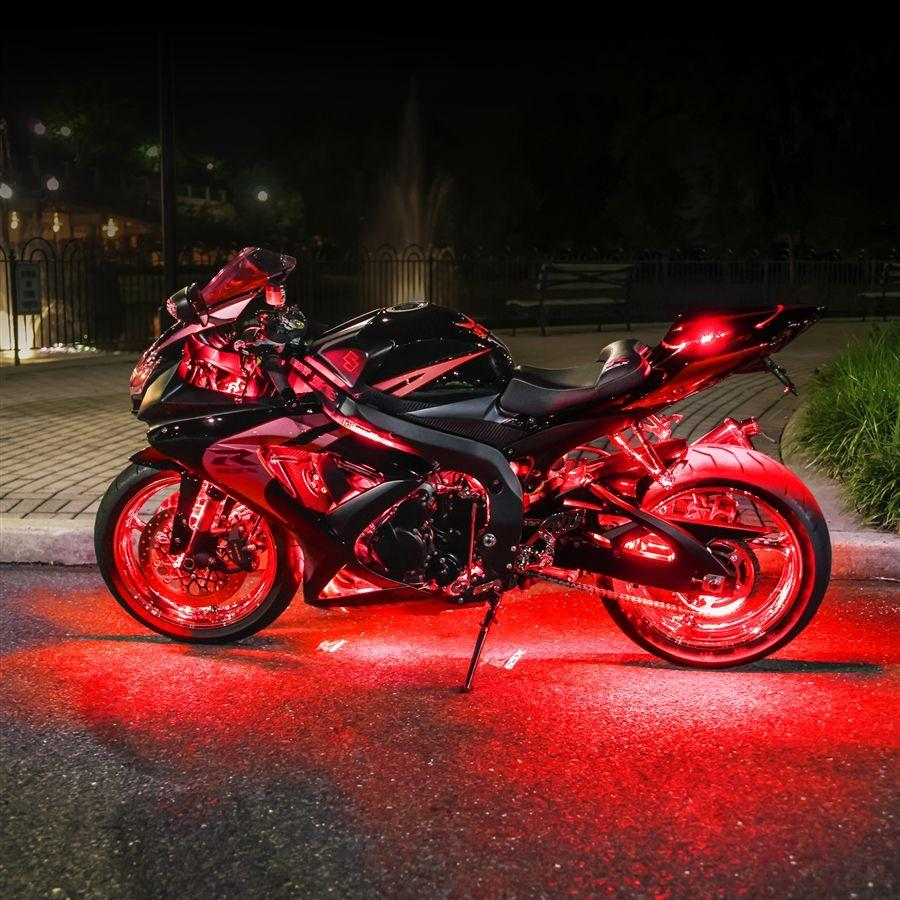Motorcycle: (74, 226, 864, 766)
